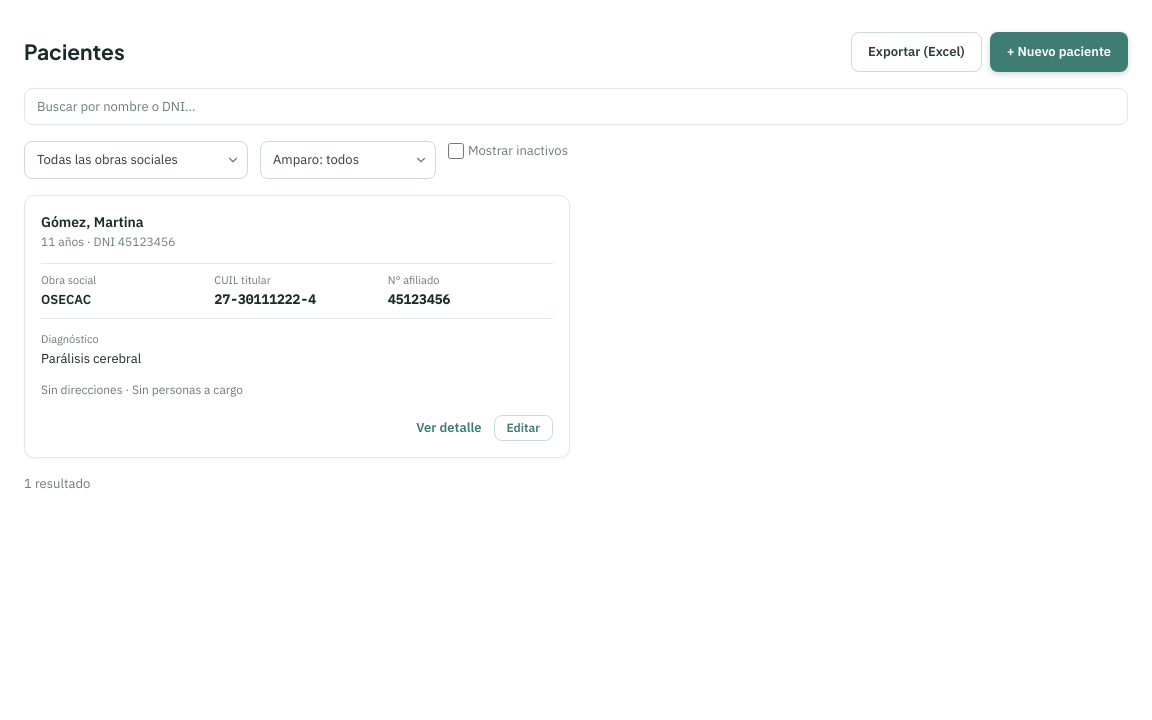
Test case: PacientesPage — paginación server-side (13.x) › 13.4/gotcha del detalle: seleccionar un paciente muestra su ficha completa sin depender de que siga en la página cargada
The image size is (1152, 720).
Click the text "Gómez, Martina": click(92, 222) [41,212,144,230]
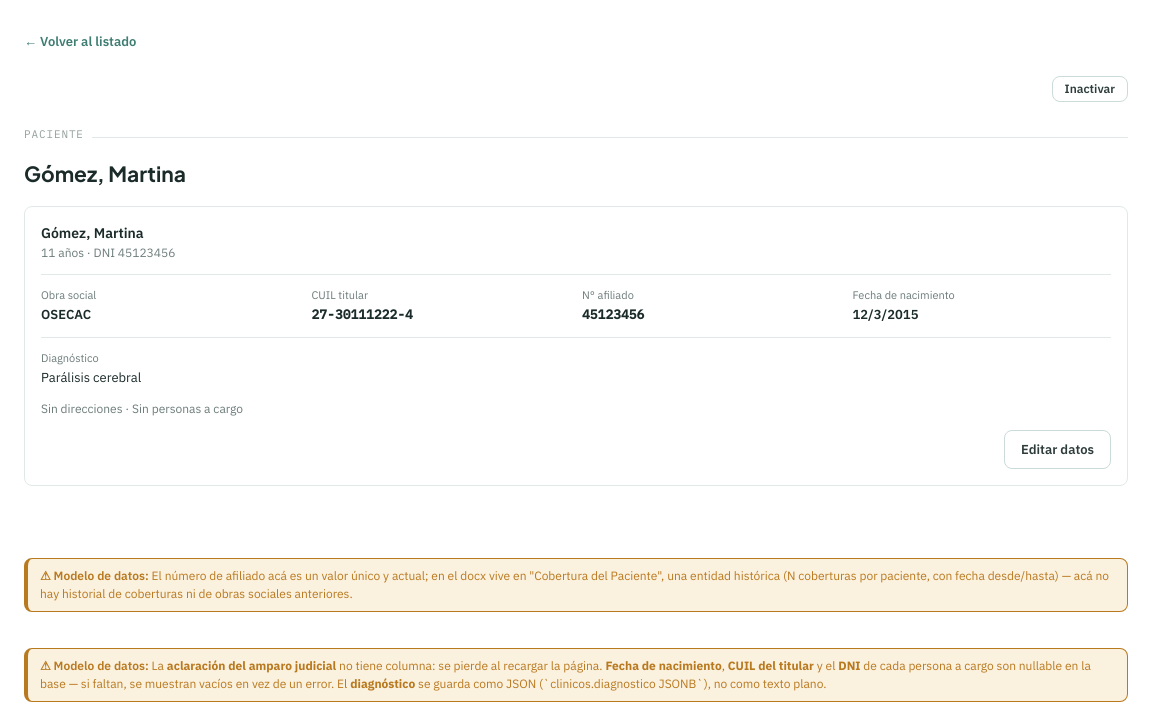
expect the button "Editar datos" is shown: met, box [1004,430,1111,469]
